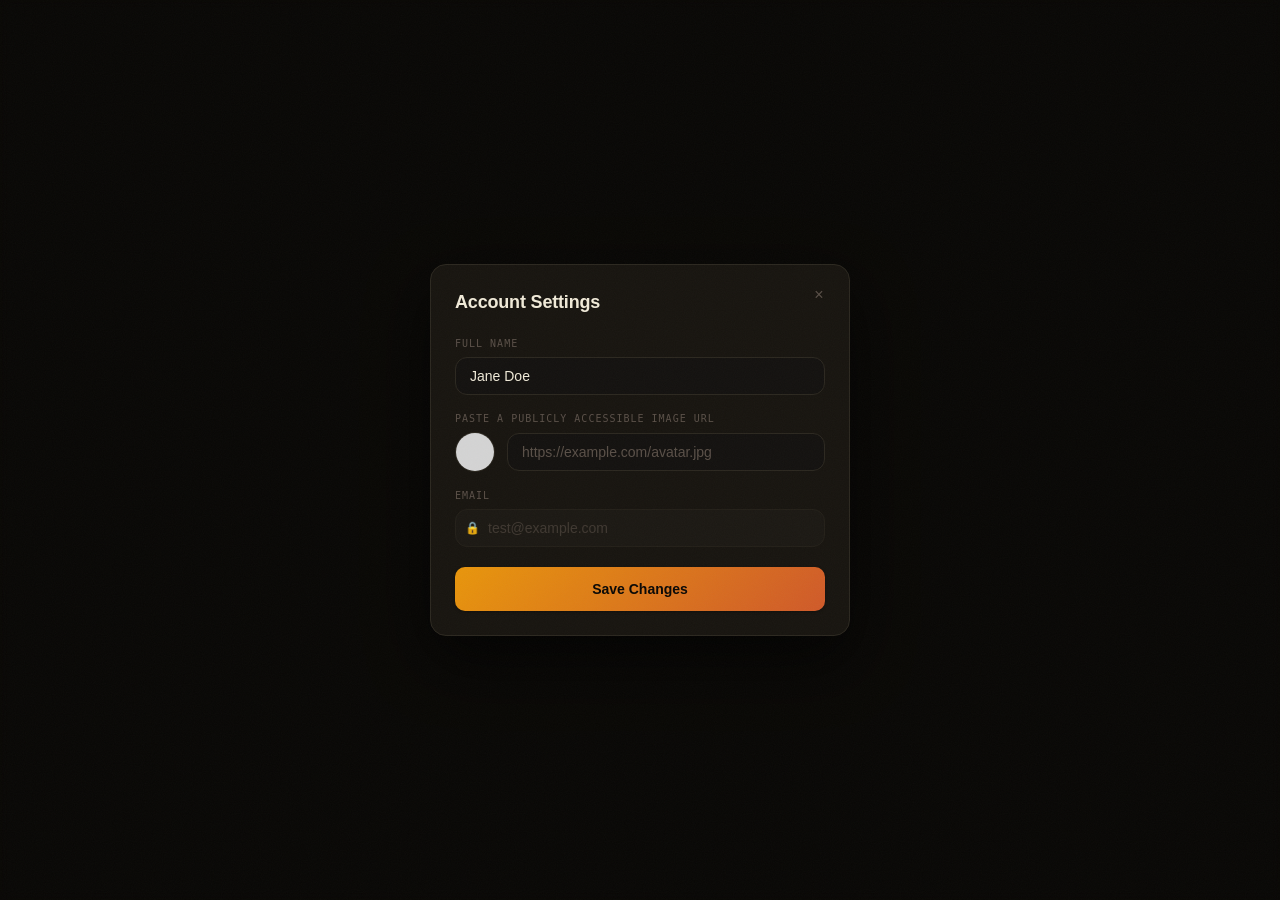
AccountSettings › shows fallback error message when backend error has no message
Click the button "Save Changes" at (640, 589), box [455,567,825,611]
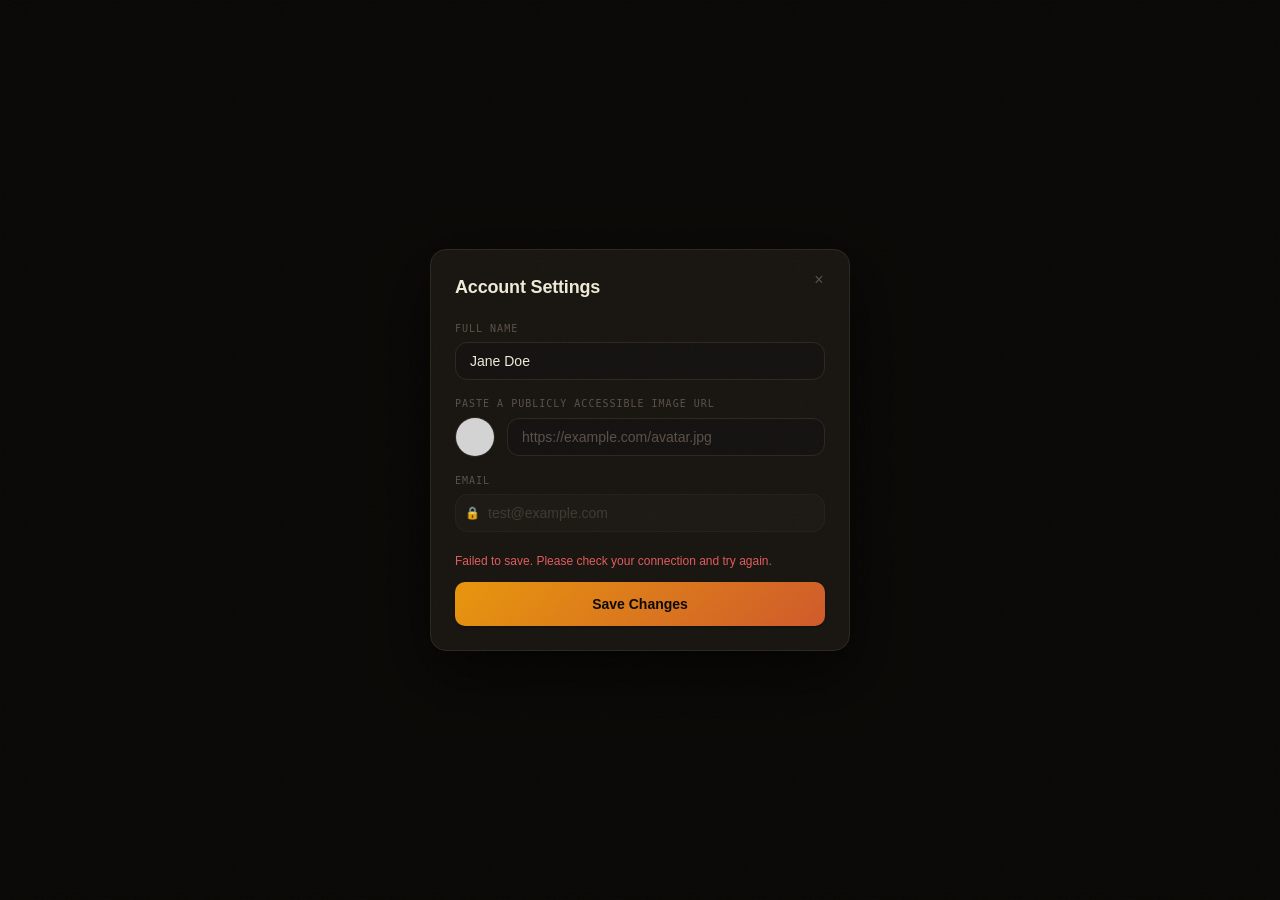
Check: the text "Failed to save. Please check your connection and try again." is shown, box [455,552,825,570]
